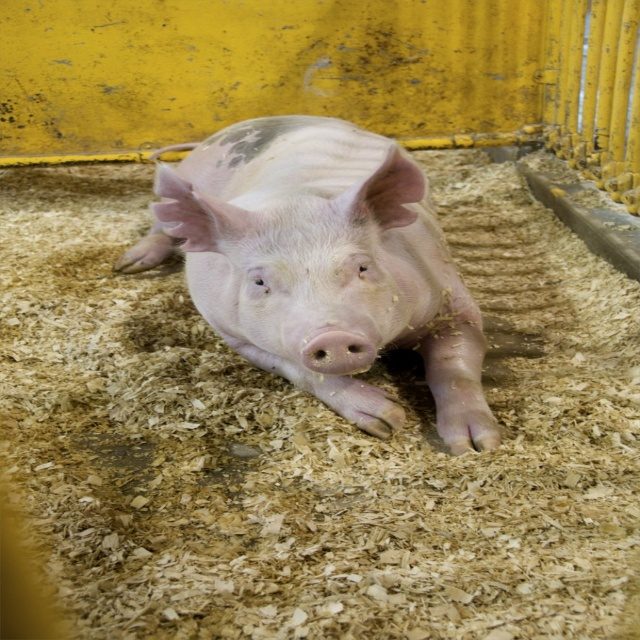Pig: (108, 114, 507, 454)
